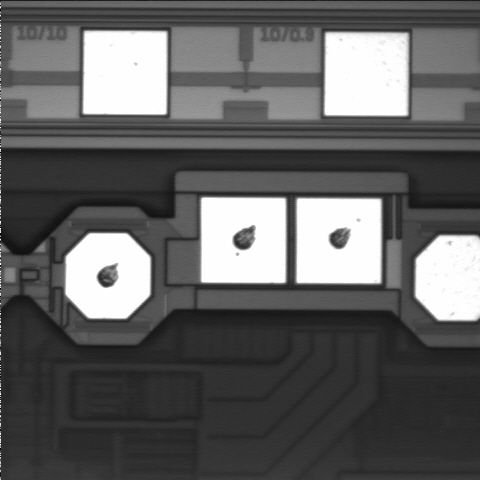pad: (201, 198, 286, 283), (297, 198, 381, 283), (66, 233, 150, 318), (83, 31, 167, 114), (325, 33, 408, 116)
